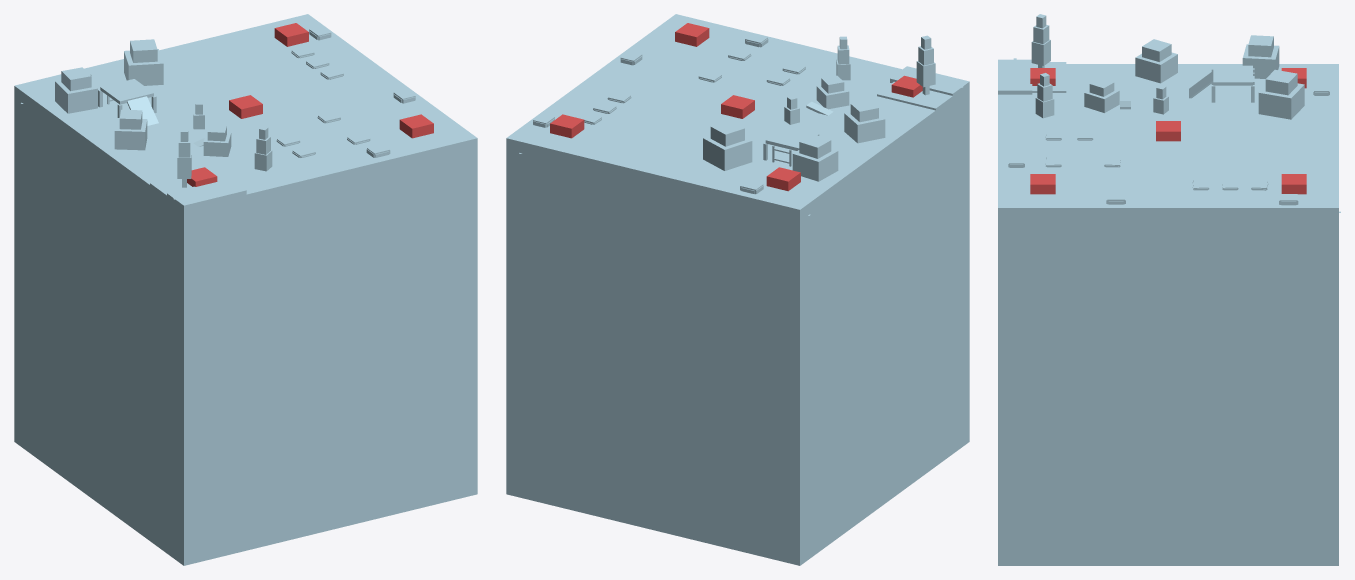
File: block_23_sewersystem_100.glb
3 renders of one model, left to right at view 1: azimuth 30°, elevation 25°; view 2: azimuth 150°, elevation 25°; view 3: azimuth 270°, elevation 25°, orthographic.
Visible parts, largest first — view 1: Patch_UpperRight_b23_SL, SL_Net_23, PlayEquip_UpperRight_b23_SL, RTree_45_SL, RTree_46_SL, Roads_UpperRight_b23_SL, RTree_43_SL, Resid_UpperRight_b23_SL, RTree_42_SL, RTree_40_SL, RTree_41_SL; view 2: Patch_UpperRight_b23_SL, SL_Net_23, RTree_46_SL, RTree_45_SL, Roads_UpperRight_b23_SL, RTree_43_SL, Resid_UpperRight_b23_SL, PlayEquip_UpperRight_b23_SL, RTree_42_SL, RTree_40_SL; view 3: Patch_UpperRight_b23_SL, SL_Net_23, Roads_UpperRight_b23_SL, RTree_46_SL, RTree_43_SL, PlayEquip_UpperRight_b23_SL, Resid_UpperRight_b23_SL, RTree_45_SL, RTree_42_SL, RTree_40_SL, RTree_41_SL.
Part boxes in pixels (left/top/right/bottom): Patch_UpperRight_b23_SL: left=14, top=14, right=477, bottom=565; SL_Net_23: left=187, top=23, right=433, bottom=186; PlayEquip_UpperRight_b23_SL: left=98, top=79, right=204, bottom=146; RTree_45_SL: left=55, top=67, right=97, bottom=113; RTree_46_SL: left=124, top=39, right=163, bottom=85; Roads_UpperRight_b23_SL: left=28, top=108, right=467, bottom=210; RTree_43_SL: left=114, top=109, right=147, bottom=150; Resid_UpperRight_b23_SL: left=21, top=106, right=476, bottom=211; RTree_42_SL: left=203, top=124, right=231, bottom=156; RTree_40_SL: left=177, top=128, right=191, bottom=187; RTree_41_SL: left=254, top=126, right=272, bottom=171; Patch_UpperRight_b23_SL: left=506, top=14, right=969, bottom=565; SL_Net_23: left=550, top=23, right=922, bottom=191; RTree_46_SL: left=703, top=120, right=752, bottom=170; RTree_45_SL: left=792, top=134, right=838, bottom=181; Roads_UpperRight_b23_SL: left=506, top=66, right=969, bottom=224; RTree_43_SL: left=844, top=100, right=885, bottom=143; Resid_UpperRight_b23_SL: left=509, top=81, right=969, bottom=225; PlayEquip_UpperRight_b23_SL: left=763, top=101, right=833, bottom=166; RTree_42_SL: left=816, top=75, right=849, bottom=109; RTree_40_SL: left=916, top=35, right=935, bottom=95; Patch_UpperRight_b23_SL: left=998, top=64, right=1338, bottom=565; SL_Net_23: left=1030, top=68, right=1306, bottom=194; Roads_UpperRight_b23_SL: left=998, top=59, right=1338, bottom=224; RTree_46_SL: left=1258, top=69, right=1304, bottom=119; RTree_43_SL: left=1135, top=39, right=1177, bottom=83; PlayEquip_UpperRight_b23_SL: left=1120, top=65, right=1254, bottom=109; Resid_UpperRight_b23_SL: left=998, top=62, right=1338, bottom=224; RTree_45_SL: left=1242, top=35, right=1279, bottom=78; RTree_42_SL: left=1084, top=78, right=1119, bottom=112; RTree_40_SL: left=1031, top=14, right=1050, bottom=67; RTree_41_SL: left=1035, top=73, right=1054, bottom=118.
Bounding box in the file's own units: 9.55 × 12.8 × 9.55.
